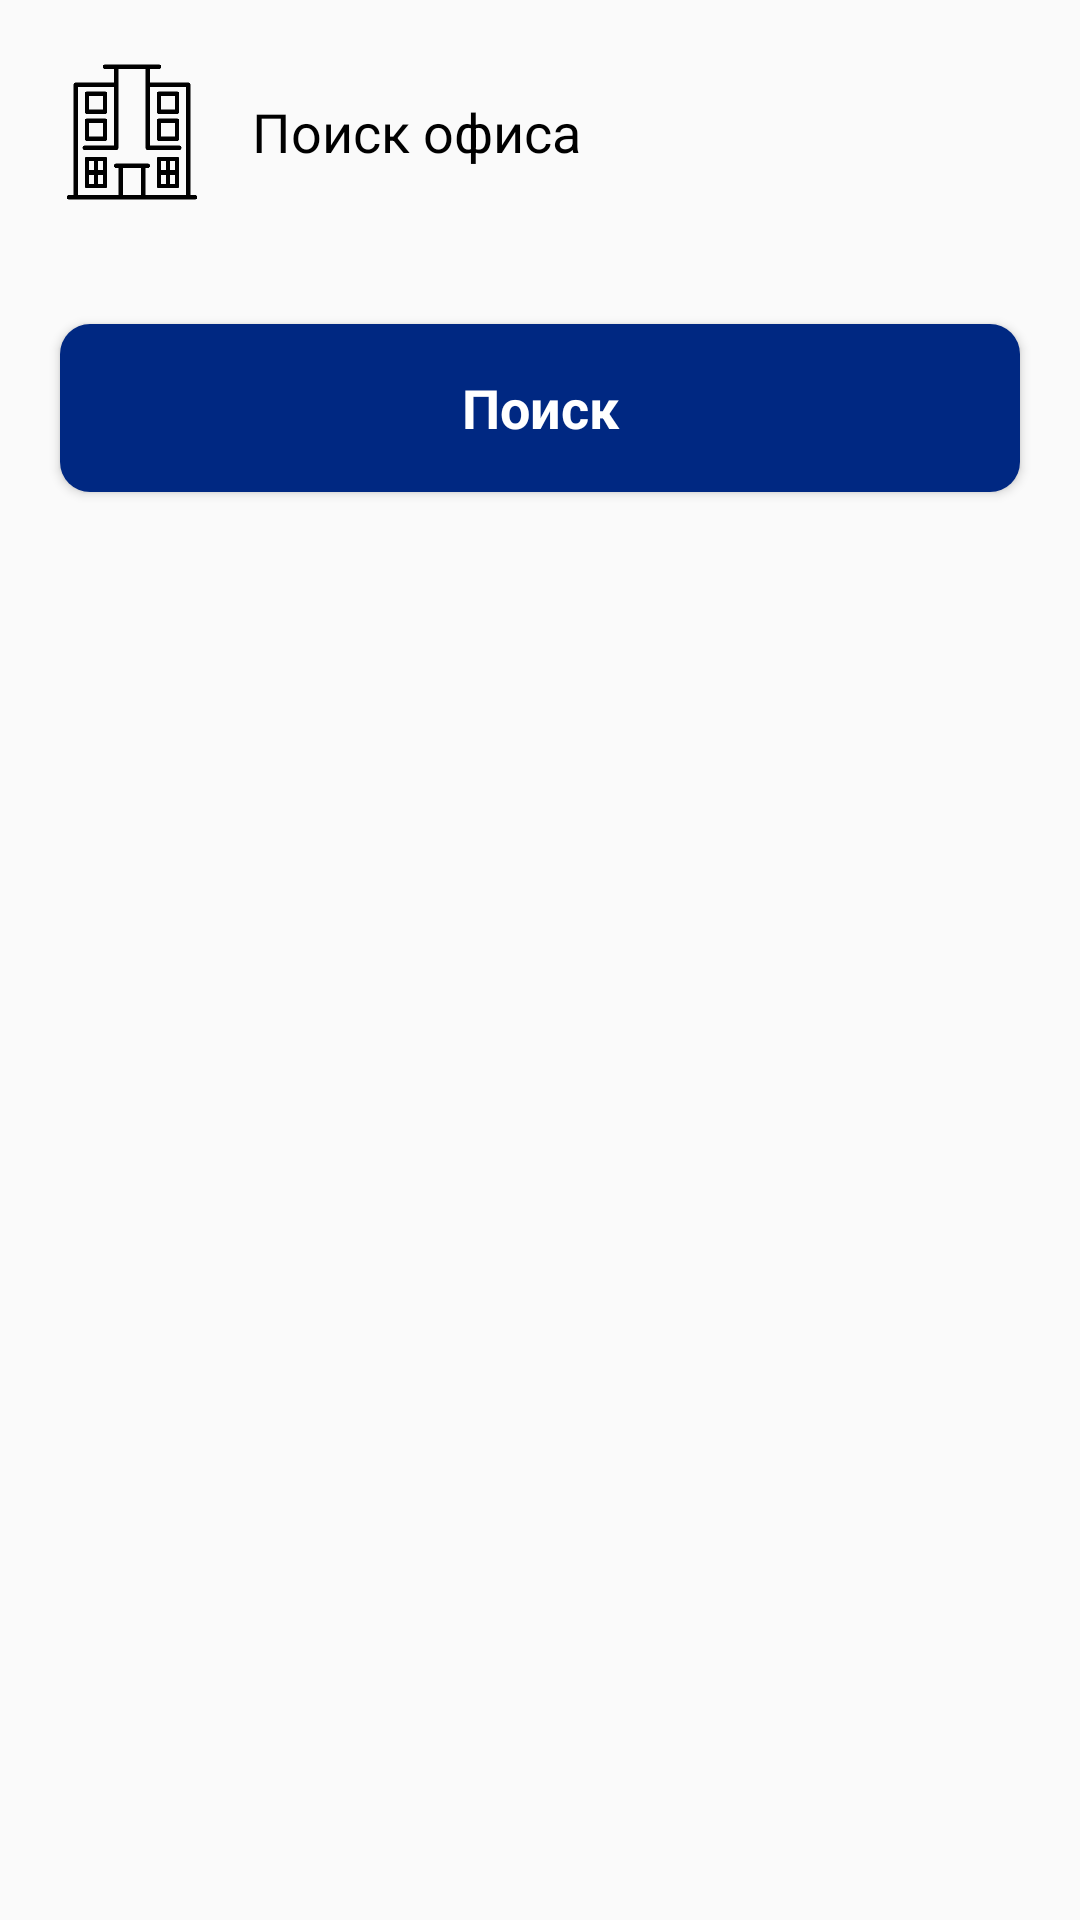

Locate icon controls on the screen. Image size 1080 x 1920, boxes as (x1, y1, x2, y2).
office: (67, 64, 197, 200)
